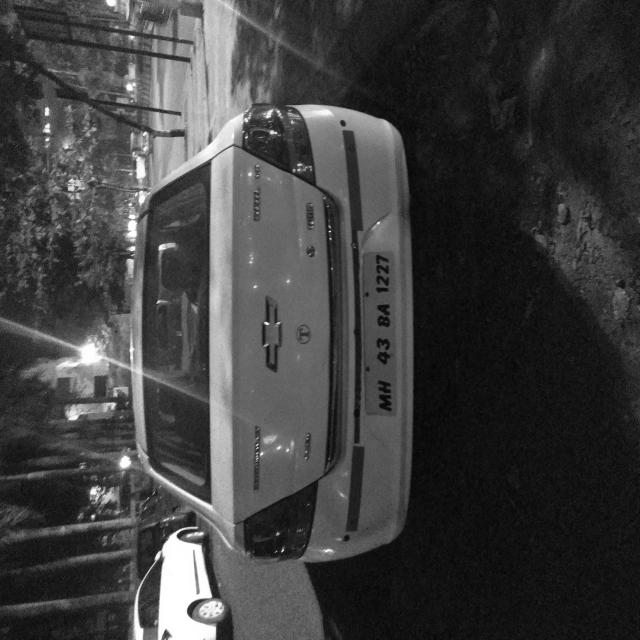car: (52, 166, 408, 579)
license-plate: (174, 486, 295, 538)
